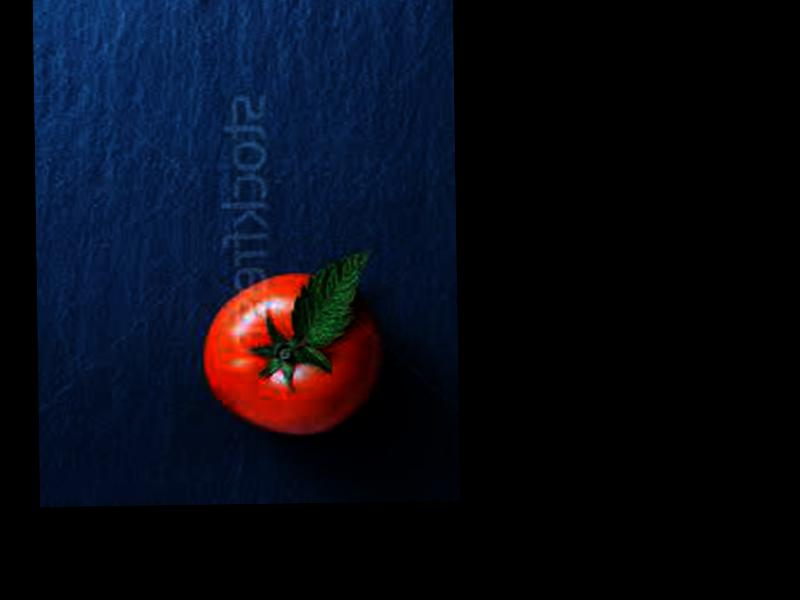Tomato: (202, 270, 381, 435)
